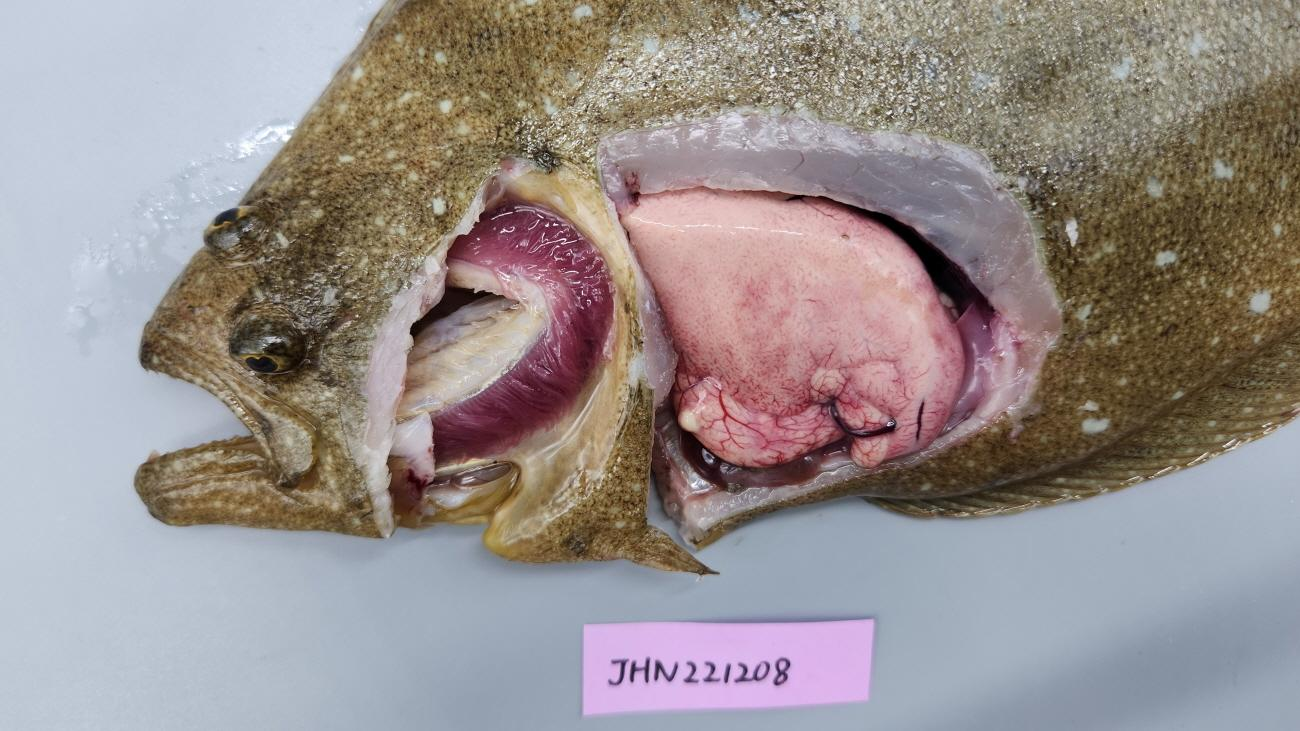POGIN: (431, 207, 613, 461)
